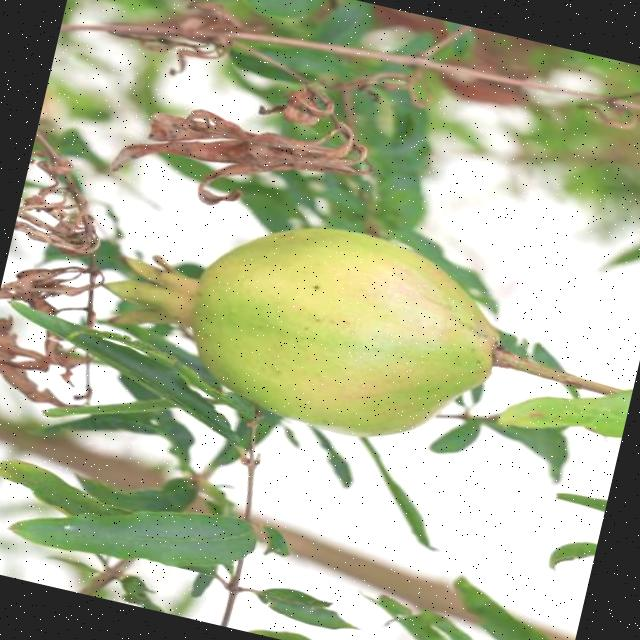Unripe: (84, 176, 522, 465)
